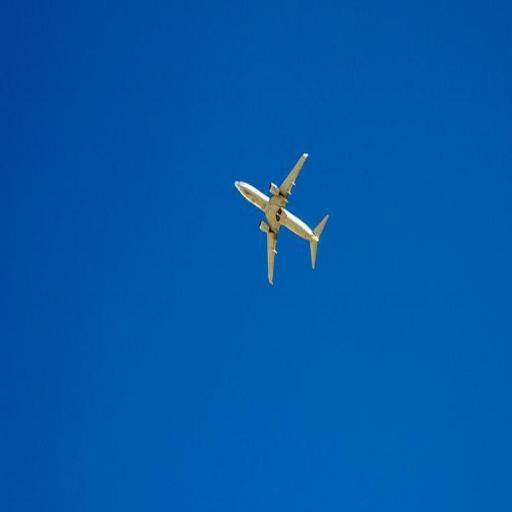aircraft: (232, 146, 332, 289)
